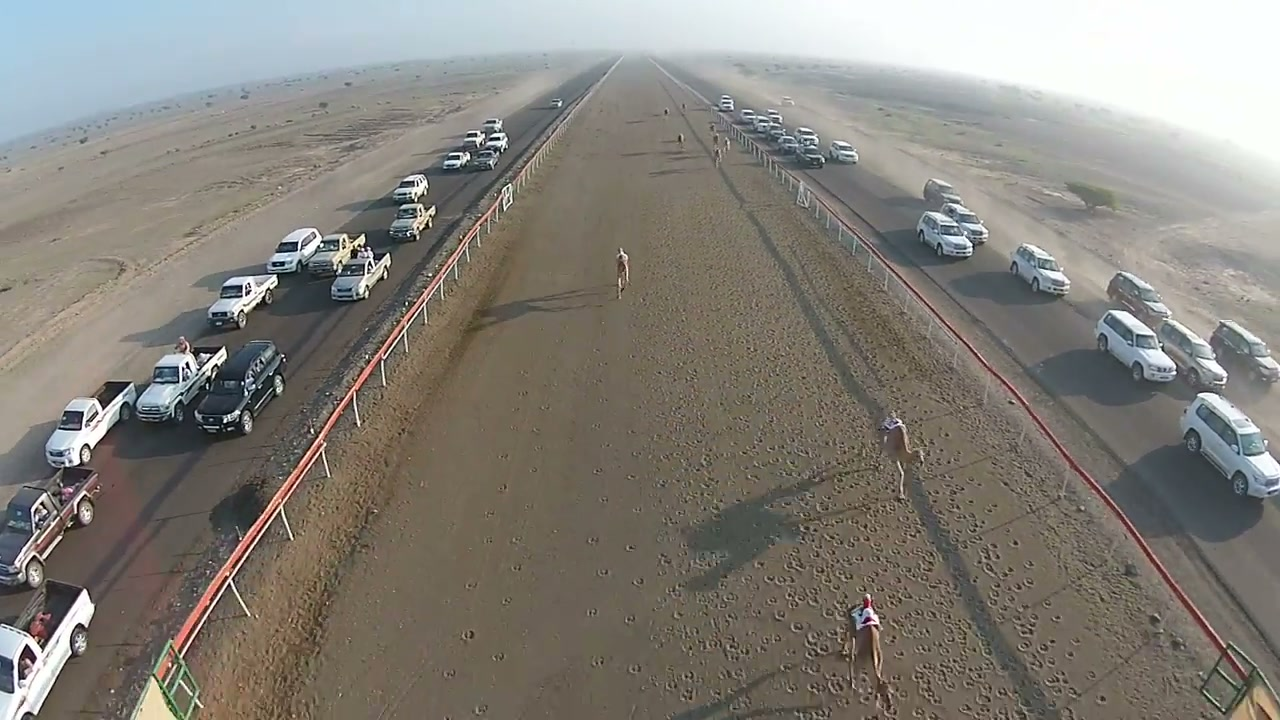animal_foot_print: (686, 249, 891, 684), (908, 471, 1128, 704)
